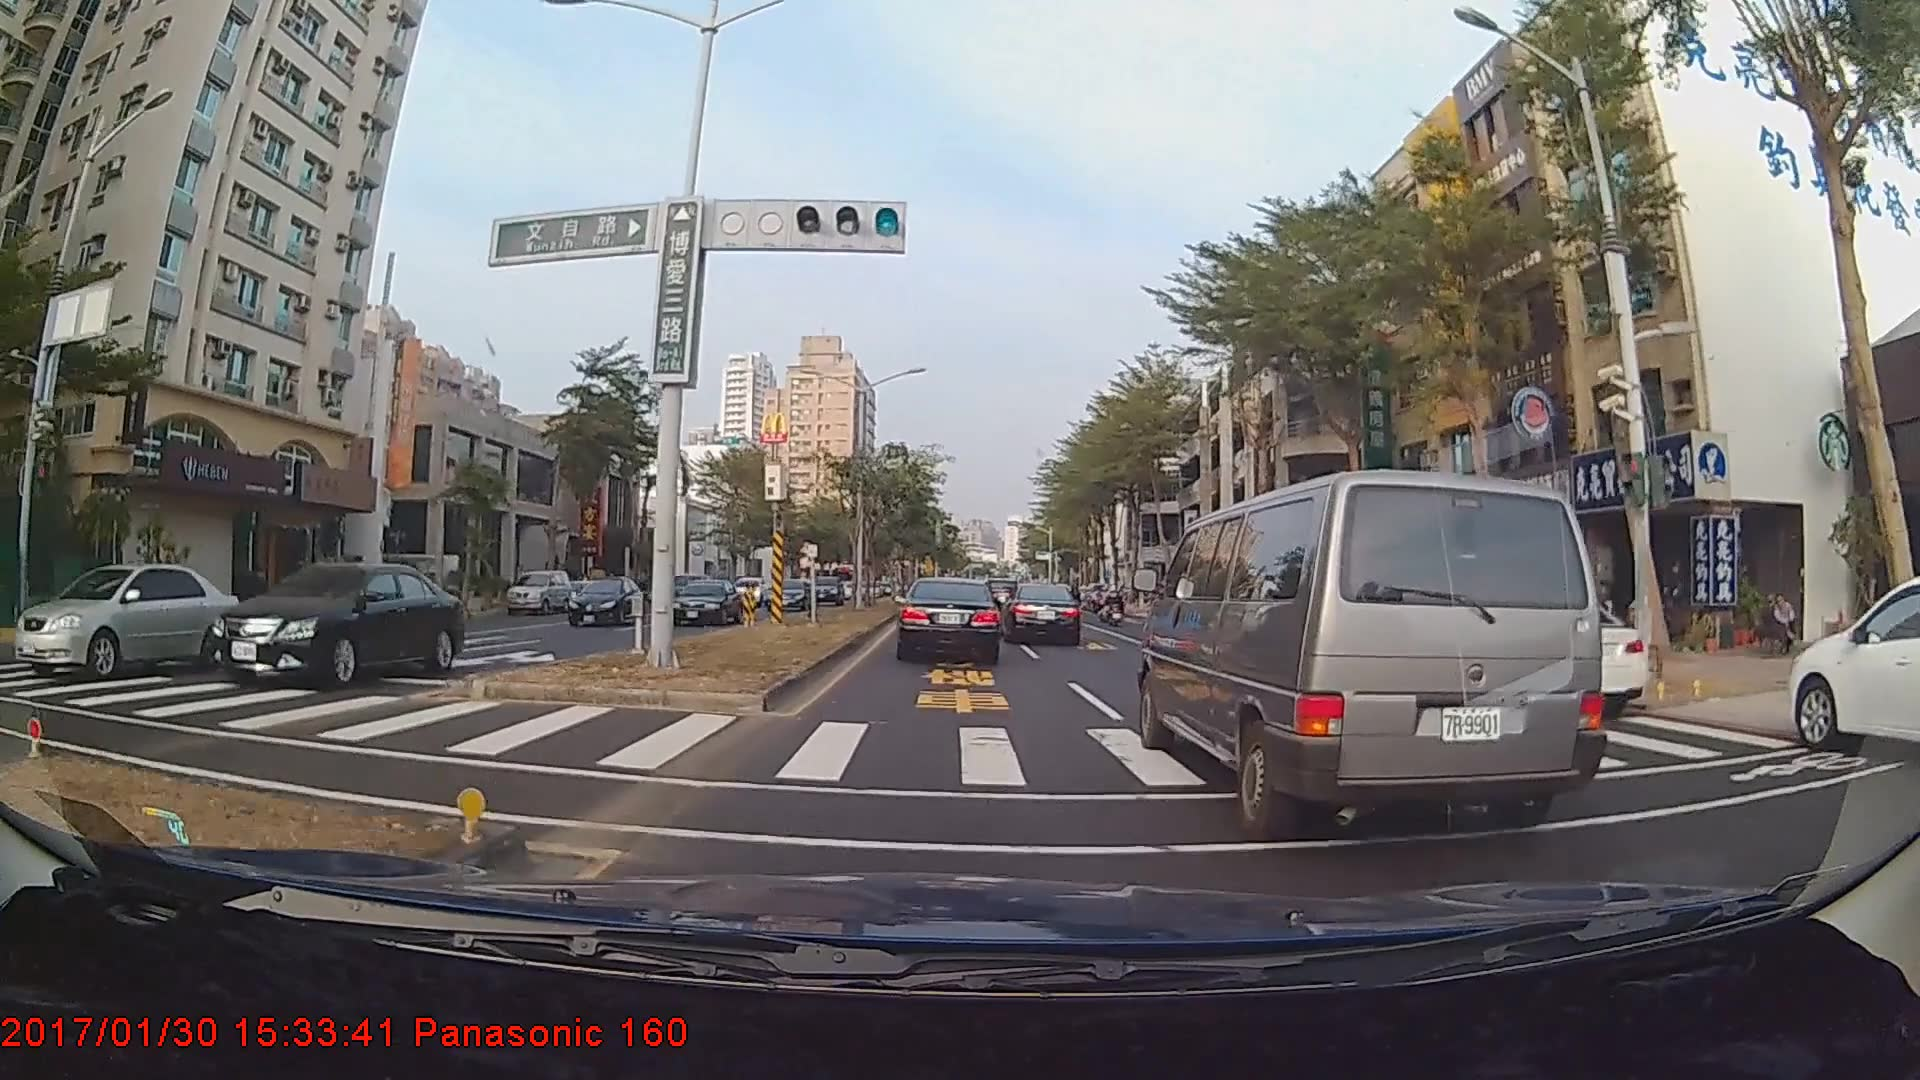vehicle: (1141, 462, 1618, 827), (200, 560, 465, 692), (11, 560, 240, 682), (1785, 570, 1917, 764), (1460, 601, 1648, 721), (895, 578, 1002, 665), (1002, 582, 1083, 645), (564, 576, 642, 626), (665, 578, 740, 626), (506, 568, 574, 615), (764, 579, 810, 611)
